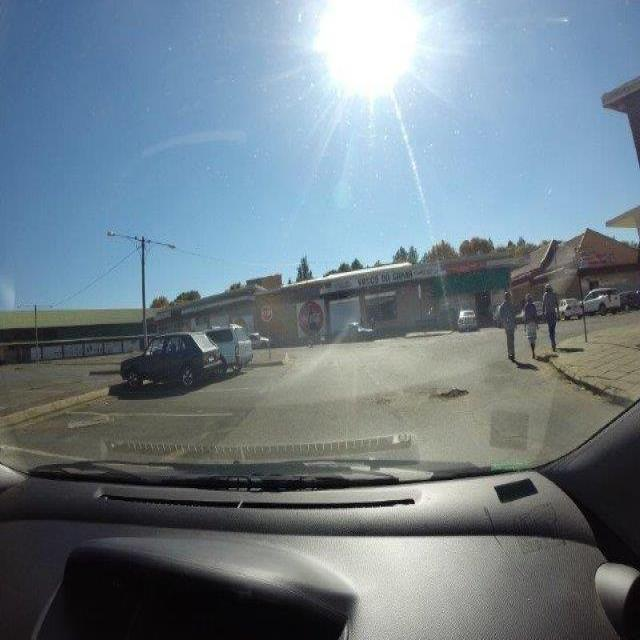jalan retak: (369, 389, 406, 422)
lubang: (433, 381, 471, 404)
